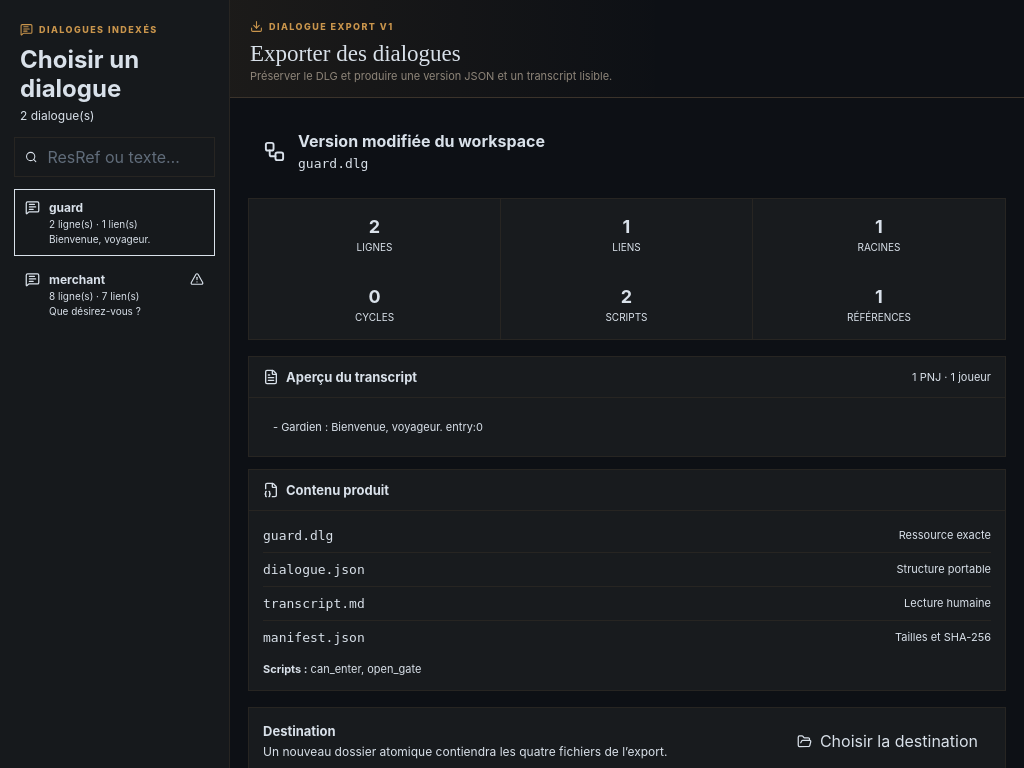
Test: DialogueExportWorkspace › previews the workspace revision, transcript and scripts
This screenshot has width=1024, height=768.
Expected: the text "Version modifiée du workspace" is shown, x1=298 y1=131 x2=545 y2=151
Expected: the text "Bienvenue, voyageur." is shown 2 times, x1=49 y1=233 x2=150 y2=245; x1=273 y1=420 x2=483 y2=434
Step 1. Type "marchand absent" into the field named "Rechercher un dialogue à exporter" → point(125, 157), box x1=45 y1=146 x2=204 y2=168
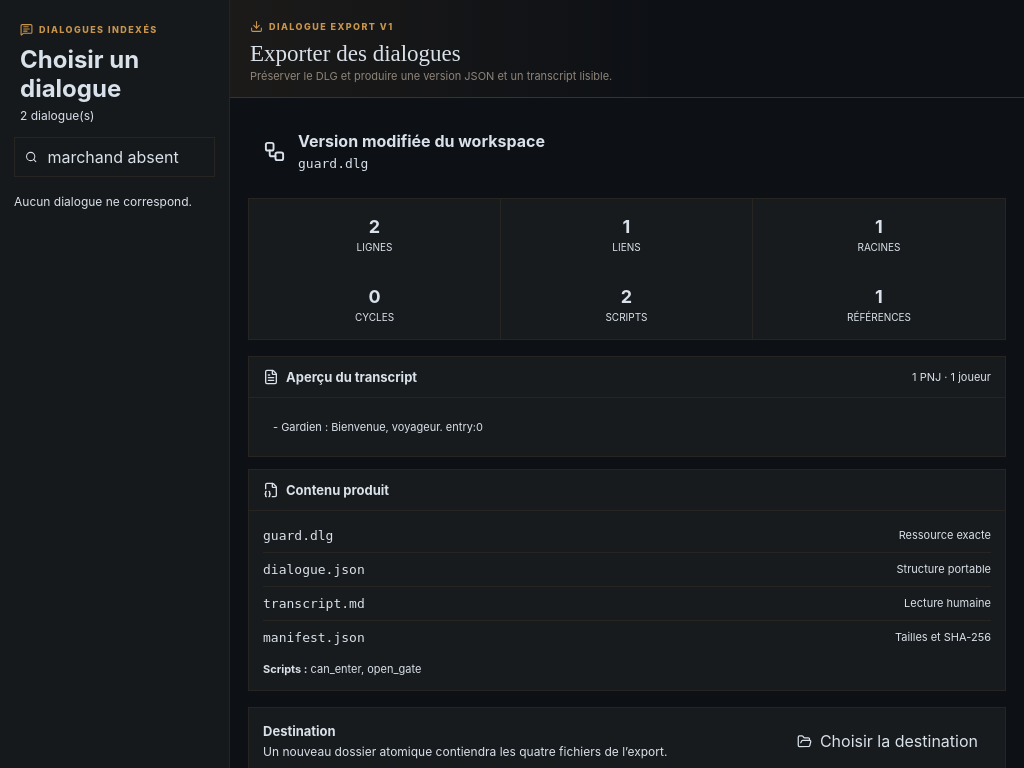
Result: the text "Aucun dialogue ne correspond." is shown at x1=14 y1=194 x2=215 y2=209
